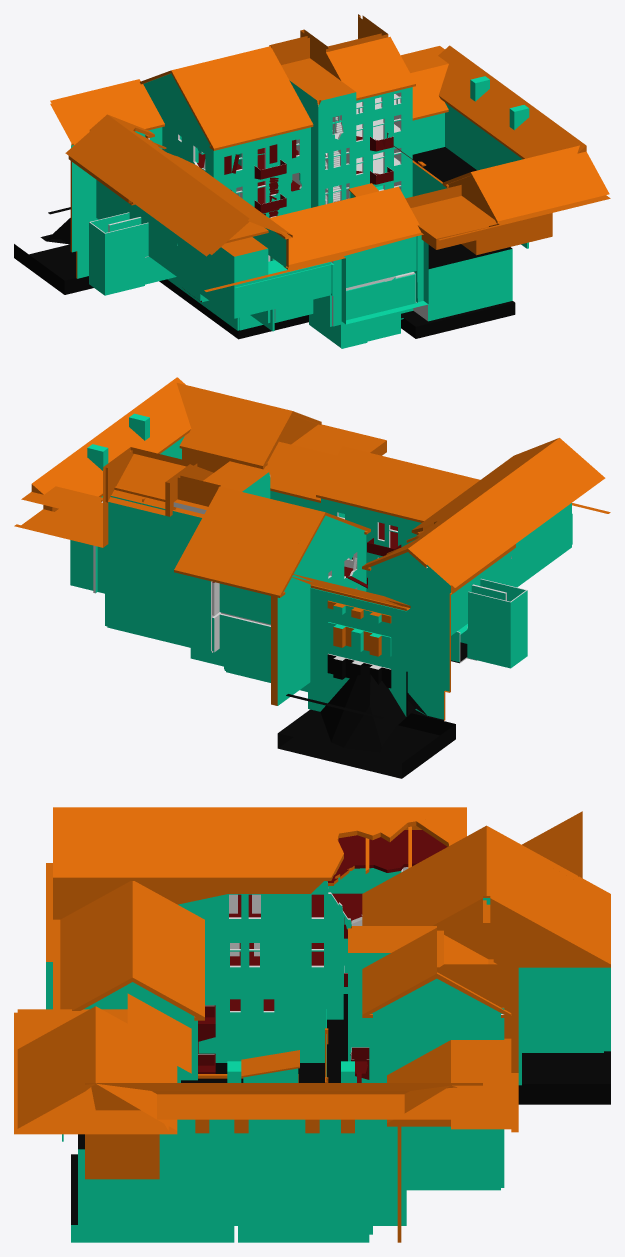
Rendered from stalingrad.glb.
The picture shows the model from 3 angles, top to bottom: view 1: azimuth 30°, elevation 25°; view 2: azimuth 150°, elevation 25°; view 3: azimuth 270°, elevation 25°; orthographic projection. The views are drawn at different scales.
Visible parts, largest first — view 1: node_id550_mesh_id551, node_id1812_mesh_id1813, node_id1828_mesh_id1829, node_id494_mesh_id495, node_id1856_mesh_id1857, node_id1732_mesh_id1733, node_id2290_mesh_id2291, node_id760_mesh_id761, node_id2774_mesh_id2775, node_id2282_mesh_id2283, node_id1602_mesh_id1603, node_id1556_mesh_id1557 (+43 smaller); view 2: node_id1042_mesh_id1043, node_id550_mesh_id551, node_id1806_mesh_id1807, node_id1598_mesh_id1599, node_id2492_mesh_id2493, node_id2276_mesh_id2277, node_id504_mesh_id505, node_id3048_mesh_id3049, node_id1856_mesh_id1857, node_id2692_mesh_id2693, node_id1732_mesh_id1733, node_id2778_mesh_id2779 (+20 smaller); view 3: node_id1412_mesh_id1413, node_id2974_mesh_id2975, node_id1170_mesh_id1171, node_id1806_mesh_id1807, node_id2276_mesh_id2277, node_id408_mesh_id409, node_id1856_mesh_id1857, node_id1812_mesh_id1813, node_id1242_mesh_id1243, node_id2320_mesh_id2321, node_id1828_mesh_id1829, node_id2678_mesh_id2679 (+31 smaller).
Part boxes in pixels (bbox=[...]): node_id550_mesh_id551: bbox=[65, 114, 249, 256]; node_id1812_mesh_id1813: bbox=[171, 46, 313, 148]; node_id1828_mesh_id1829: bbox=[269, 186, 421, 267]; node_id494_mesh_id495: bbox=[471, 145, 609, 222]; node_id1856_mesh_id1857: bbox=[438, 45, 586, 159]; node_id1732_mesh_id1733: bbox=[96, 180, 234, 318]; node_id2290_mesh_id2291: bbox=[428, 249, 512, 321]; node_id760_mesh_id761: bbox=[234, 248, 331, 318]; node_id2774_mesh_id2775: bbox=[50, 79, 164, 144]; node_id2282_mesh_id2283: bbox=[326, 36, 415, 98]; node_id1602_mesh_id1603: bbox=[411, 196, 499, 249]; node_id1556_mesh_id1557: bbox=[333, 235, 428, 326]; node_id1042_mesh_id1043: bbox=[105, 496, 210, 651]; node_id550_mesh_id551: bbox=[408, 438, 605, 587]; node_id1806_mesh_id1807: bbox=[174, 486, 325, 595]; node_id1598_mesh_id1599: bbox=[278, 654, 455, 756]; node_id2492_mesh_id2493: bbox=[368, 552, 450, 719]; node_id2276_mesh_id2277: bbox=[316, 446, 479, 520]; node_id504_mesh_id505: bbox=[176, 383, 321, 467]; node_id3048_mesh_id3049: bbox=[277, 517, 348, 705]; node_id1856_mesh_id1857: bbox=[31, 377, 191, 497]; node_id2692_mesh_id2693: bbox=[308, 596, 406, 716]; node_id1732_mesh_id1733: bbox=[451, 503, 571, 635]; node_id2778_mesh_id2779: bbox=[277, 724, 455, 778]; node_id1412_mesh_id1413: bbox=[159, 1119, 408, 1225]; node_id2974_mesh_id2975: bbox=[53, 807, 466, 877]; node_id1170_mesh_id1171: bbox=[369, 978, 504, 1188]; node_id1806_mesh_id1807: bbox=[486, 826, 610, 967]; node_id2276_mesh_id2277: bbox=[53, 881, 323, 1020]; node_id408_mesh_id409: bbox=[198, 968, 347, 1062]; node_id1856_mesh_id1857: bbox=[85, 1083, 482, 1119]; node_id1812_mesh_id1813: bbox=[362, 825, 490, 925]; node_id1242_mesh_id1243: bbox=[14, 1012, 177, 1179]; node_id2320_mesh_id2321: bbox=[518, 967, 603, 1052]; node_id1828_mesh_id1829: bbox=[60, 881, 132, 1010]; node_id2678_mesh_id2679: bbox=[71, 1149, 234, 1242].
Bounding box in the file's own units: 238 × 106 × 207.
